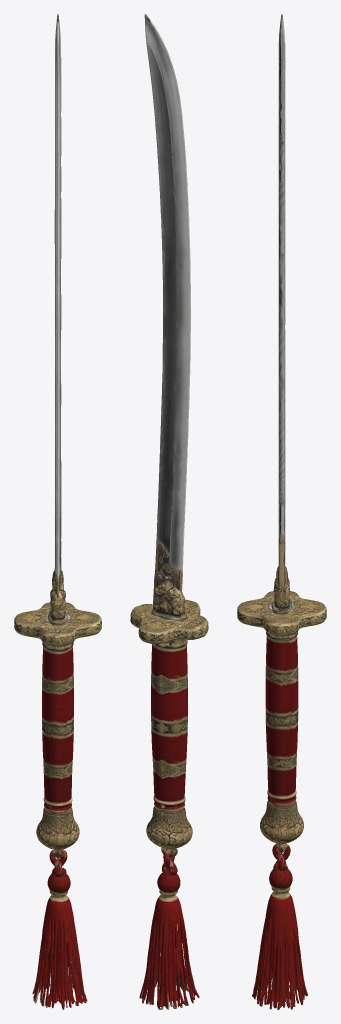
Rendered from weapon_joseon_ungeom.glb.
The picture shows the model from 3 angles, left to right: view 1: azimuth 90°, elevation 25°; view 2: azimuth 150°, elevation 25°; view 3: azimuth 270°, elevation 25°; orthographic projection. The views are drawn at different scales.
Size of the model in its own units: 0.0878 by 1.12 by 0.0915.
Materials: 1 (1 with a texture image).
